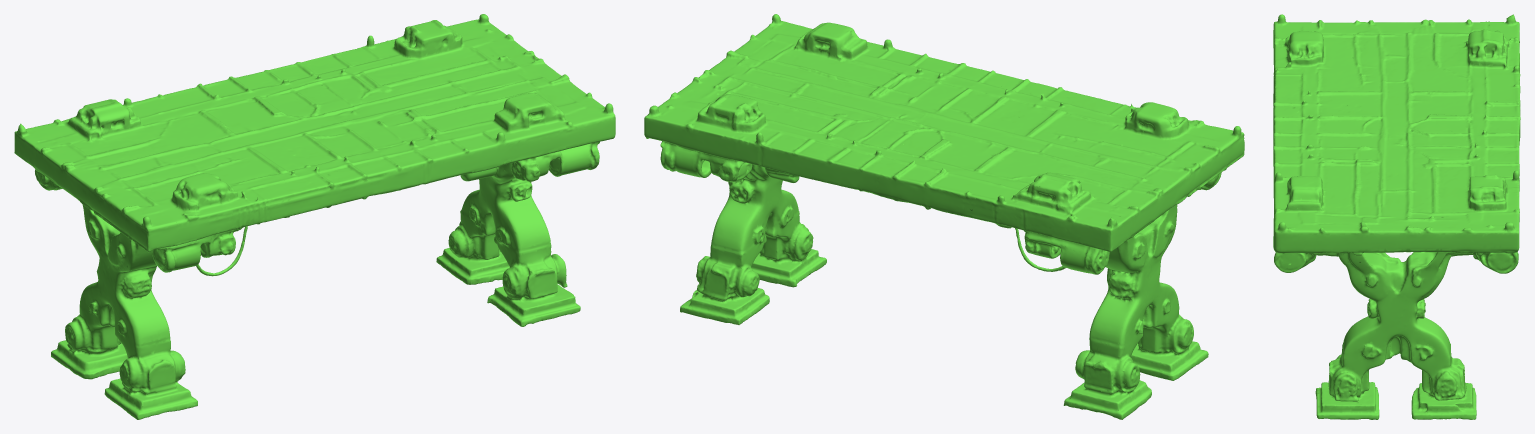
The model's file is obstacle.glb.
3 renders of one model, left to right at view 1: azimuth 30°, elevation 25°; view 2: azimuth 150°, elevation 25°; view 3: azimuth 270°, elevation 25°, orthographic. The views are drawn at different scales.
Visible parts, largest first — view 1: Mesh1.0; view 2: Mesh1.0; view 3: Mesh1.0.
Part boxes in pixels (box(x1,y1,x2,y2)): Mesh1.0: box(14, 14, 615, 419); Mesh1.0: box(644, 14, 1244, 419); Mesh1.0: box(1273, 14, 1520, 419).
Size of the model in its own units: 2.01 by 0.9498 by 0.9974.
